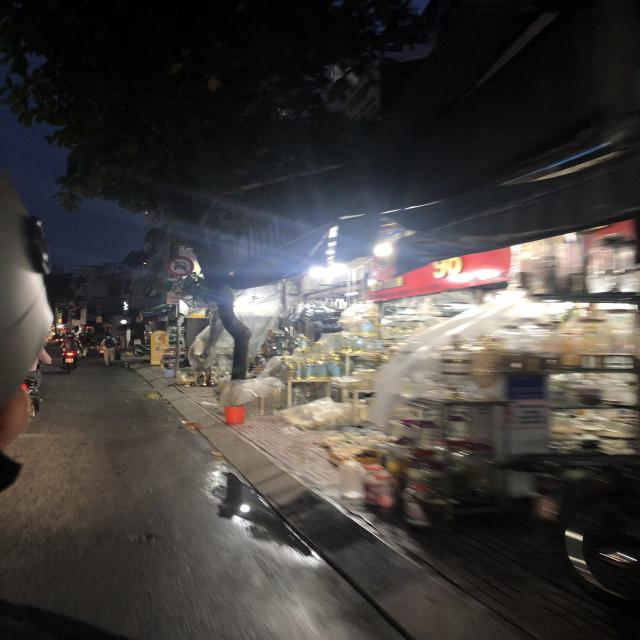Bien bao cam xe oto: (164, 253, 196, 278)
